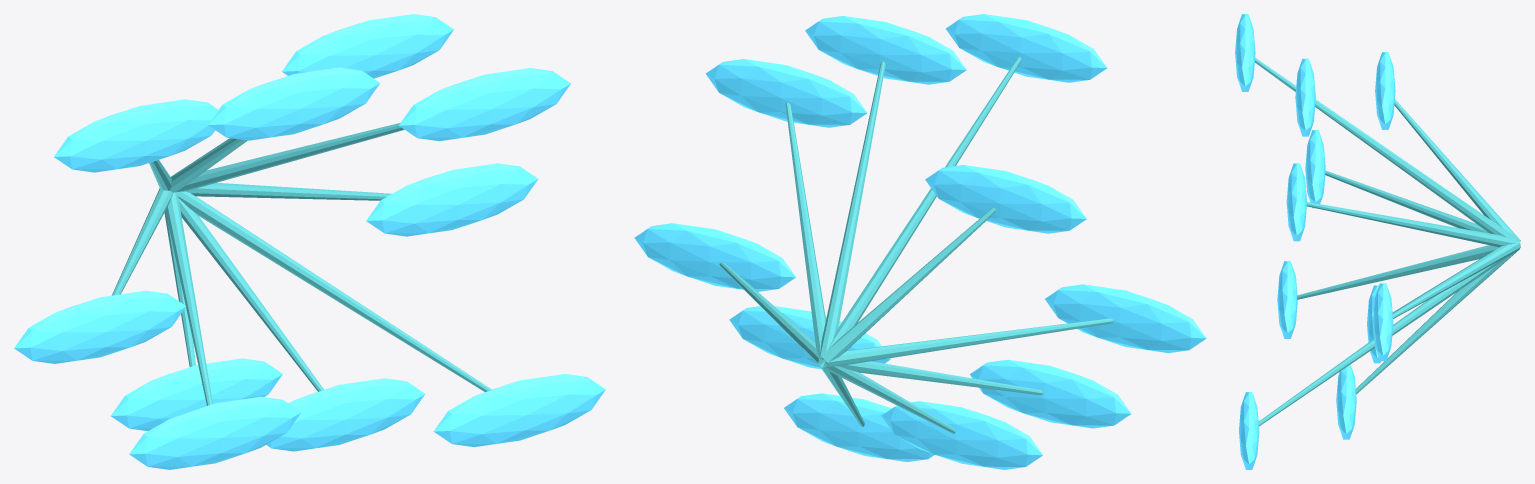
The model's file is Akariz_Plant_Blue_Fern.glb.
3 renders of one model, left to right at view 1: azimuth 30°, elevation 25°; view 2: azimuth 150°, elevation 25°; view 3: azimuth 270°, elevation 25°, orthographic. The views are drawn at different scales.
Parts seen in each view (by area): view 1: Akariz_Plant_Blue_Fern_leaf1, Akariz_Plant_Blue_Fern_leaf3, Akariz_Plant_Blue_Fern_leaf0, Akariz_Plant_Blue_Fern_leaf9, Akariz_Plant_Blue_Fern_leaf5, Akariz_Plant_Blue_Fern_leaf6, Akariz_Plant_Blue_Fern_leaf4, Akariz_Plant_Blue_Fern_leaf8, Akariz_Plant_Blue_Fern_leaf2, Akariz_Plant_Blue_Fern_leaf7, Akariz_Plant_Blue_Fern_stem9, Akariz_Plant_Blue_Fern_stem1 (+6 smaller); view 2: Akariz_Plant_Blue_Fern_leaf2, Akariz_Plant_Blue_Fern_leaf3, Akariz_Plant_Blue_Fern_leaf1, Akariz_Plant_Blue_Fern_leaf4, Akariz_Plant_Blue_Fern_leaf5, Akariz_Plant_Blue_Fern_leaf0, Akariz_Plant_Blue_Fern_leaf7, Akariz_Plant_Blue_Fern_leaf6, Akariz_Plant_Blue_Fern_leaf8, Akariz_Plant_Blue_Fern_leaf9, Akariz_Plant_Blue_Fern_stem3, Akariz_Plant_Blue_Fern_stem2 (+7 smaller); view 3: Akariz_Plant_Blue_Fern_stem2, Akariz_Plant_Blue_Fern_stem9, Akariz_Plant_Blue_Fern_stem1, Akariz_Plant_Blue_Fern_stem6, Akariz_Plant_Blue_Fern_stem8, Akariz_Plant_Blue_Fern_stem4, Akariz_Plant_Blue_Fern_stem5, Akariz_Plant_Blue_Fern_leaf2, Akariz_Plant_Blue_Fern_leaf1, Akariz_Plant_Blue_Fern_leaf0, Akariz_Plant_Blue_Fern_stem0, Akariz_Plant_Blue_Fern_leaf9 (+7 smaller).
Boxes of the visible parts, x1=… form: Akariz_Plant_Blue_Fern_leaf1: x1=399, y1=68, x2=570, y2=141; Akariz_Plant_Blue_Fern_leaf3: x1=208, y1=67, x2=379, y2=140; Akariz_Plant_Blue_Fern_leaf0: x1=366, y1=163, x2=537, y2=236; Akariz_Plant_Blue_Fern_leaf9: x1=433, y1=374, x2=605, y2=447; Akariz_Plant_Blue_Fern_leaf5: x1=14, y1=290, x2=186, y2=363; Akariz_Plant_Blue_Fern_leaf6: x1=129, y1=396, x2=301, y2=469; Akariz_Plant_Blue_Fern_leaf4: x1=54, y1=99, x2=218, y2=172; Akariz_Plant_Blue_Fern_leaf8: x1=266, y1=378, x2=424, y2=451; Akariz_Plant_Blue_Fern_leaf2: x1=282, y1=14, x2=453, y2=78; Akariz_Plant_Blue_Fern_leaf7: x1=111, y1=358, x2=282, y2=431; Akariz_Plant_Blue_Fern_stem9: x1=176, y1=191, x2=491, y2=391; Akariz_Plant_Blue_Fern_stem1: x1=177, y1=123, x2=404, y2=191; Akariz_Plant_Blue_Fern_leaf2: x1=805, y1=16, x2=966, y2=84; Akariz_Plant_Blue_Fern_leaf3: x1=945, y1=14, x2=1107, y2=82; Akariz_Plant_Blue_Fern_leaf1: x1=705, y1=59, x2=866, y2=127; Akariz_Plant_Blue_Fern_leaf4: x1=925, y1=165, x2=1086, y2=233; Akariz_Plant_Blue_Fern_leaf5: x1=1045, y1=284, x2=1206, y2=352; Akariz_Plant_Blue_Fern_leaf0: x1=634, y1=223, x2=795, y2=291; Akariz_Plant_Blue_Fern_leaf7: x1=881, y1=401, x2=1042, y2=469; Akariz_Plant_Blue_Fern_leaf6: x1=970, y1=359, x2=1131, y2=428; Akariz_Plant_Blue_Fern_leaf8: x1=784, y1=393, x2=934, y2=461; Akariz_Plant_Blue_Fern_leaf9: x1=729, y1=306, x2=890, y2=369; Akariz_Plant_Blue_Fern_stem3: x1=822, y1=57, x2=1021, y2=356; Akariz_Plant_Blue_Fern_stem2: x1=819, y1=61, x2=885, y2=360; Akariz_Plant_Blue_Fern_stem2: x1=1315, y1=102, x2=1519, y2=242; Akariz_Plant_Blue_Fern_stem9: x1=1258, y1=249, x2=1519, y2=426; Akariz_Plant_Blue_Fern_stem1: x1=1307, y1=202, x2=1519, y2=247; Akariz_Plant_Blue_Fern_stem6: x1=1297, y1=245, x2=1499, y2=299; Akariz_Plant_Blue_Fern_stem8: x1=1355, y1=248, x2=1519, y2=394; Akariz_Plant_Blue_Fern_stem4: x1=1394, y1=99, x2=1520, y2=241; Akariz_Plant_Blue_Fern_stem5: x1=1325, y1=170, x2=1488, y2=233; Akariz_Plant_Blue_Fern_leaf2: x1=1295, y1=58, x2=1315, y2=136; Akariz_Plant_Blue_Fern_leaf1: x1=1286, y1=163, x2=1306, y2=241; Akariz_Plant_Blue_Fern_leaf0: x1=1373, y1=283, x2=1393, y2=361; Akariz_Plant_Blue_Fern_stem0: x1=1392, y1=242, x2=1520, y2=318; Akariz_Plant_Blue_Fern_leaf9: x1=1239, y1=392, x2=1259, y2=469.
Bounding box in the file's own units: 1.78 × 1.33 × 0.9746.
